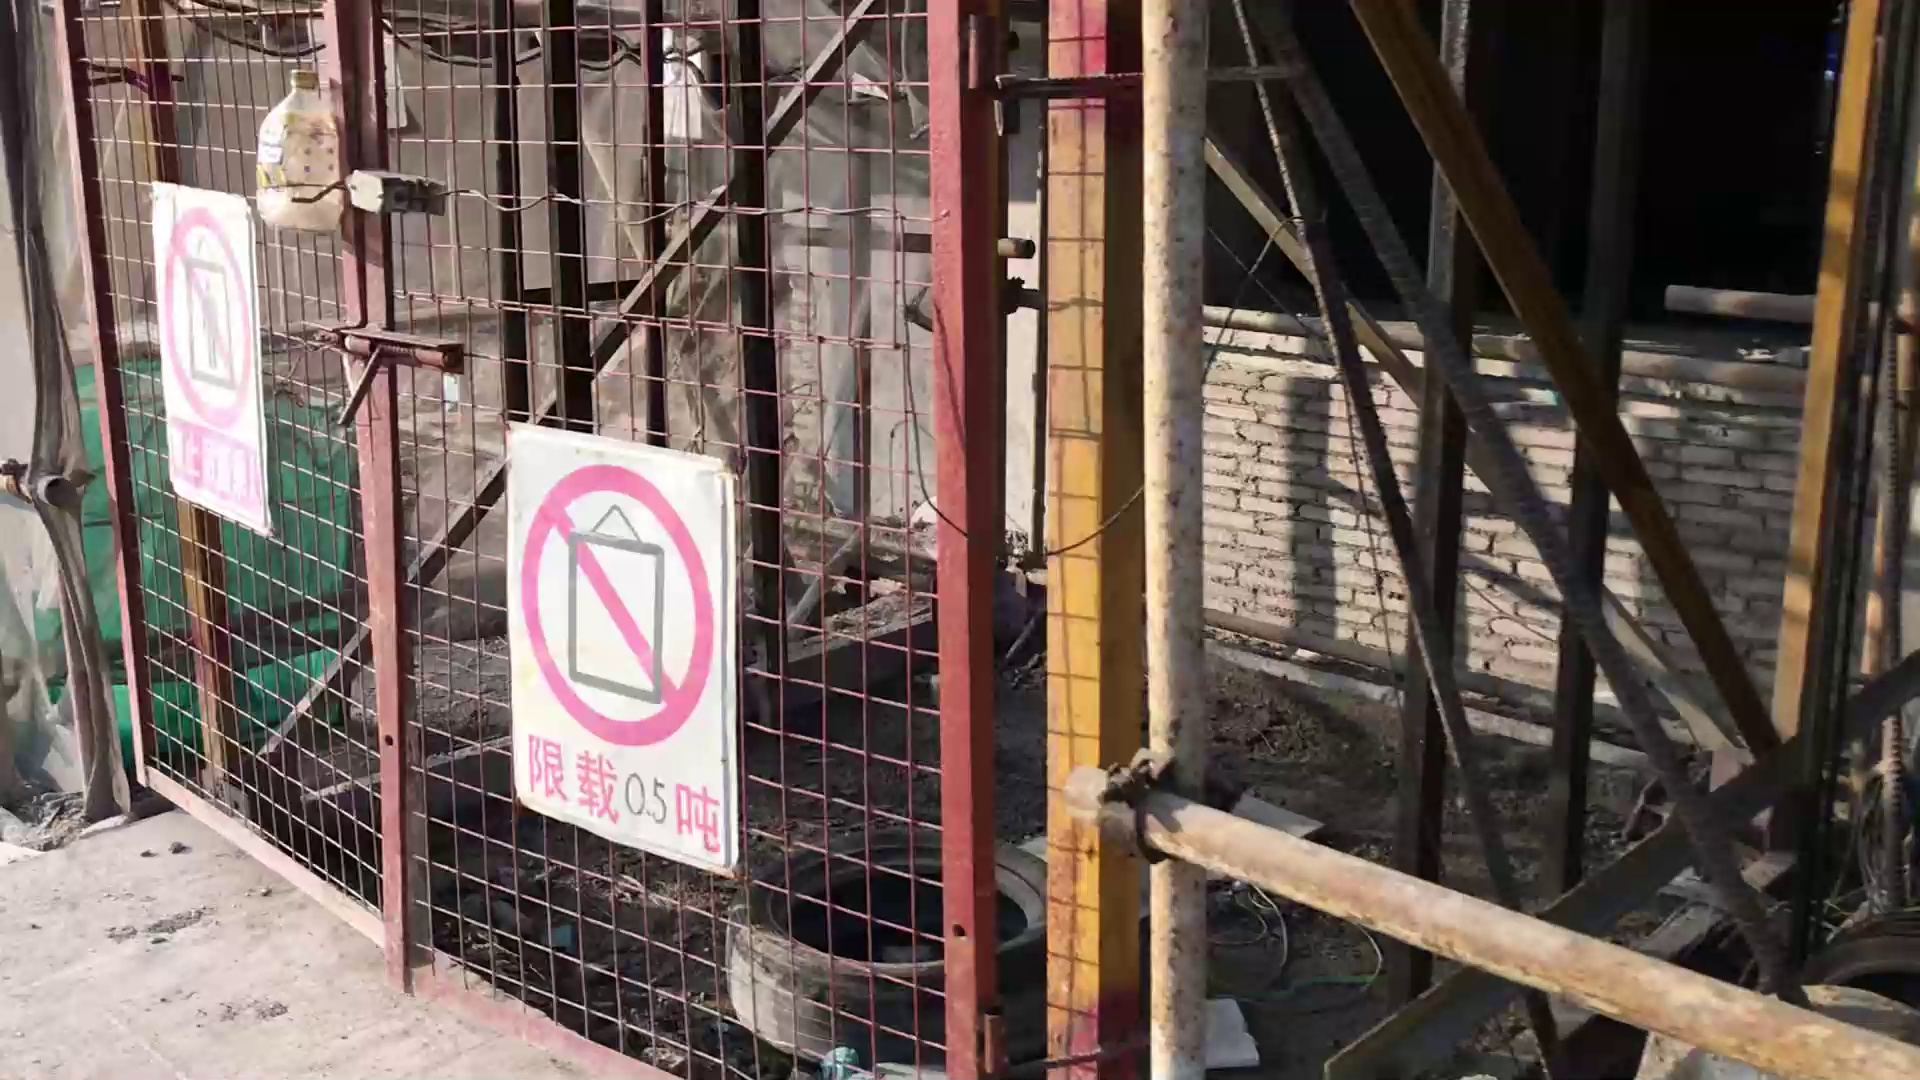slogan: (506, 425, 745, 874), (148, 174, 276, 538)
